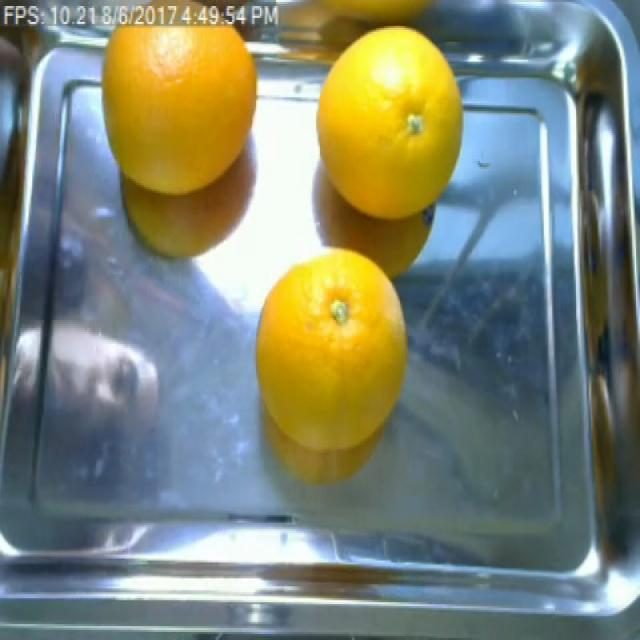Fruit: (244, 320, 403, 495)
